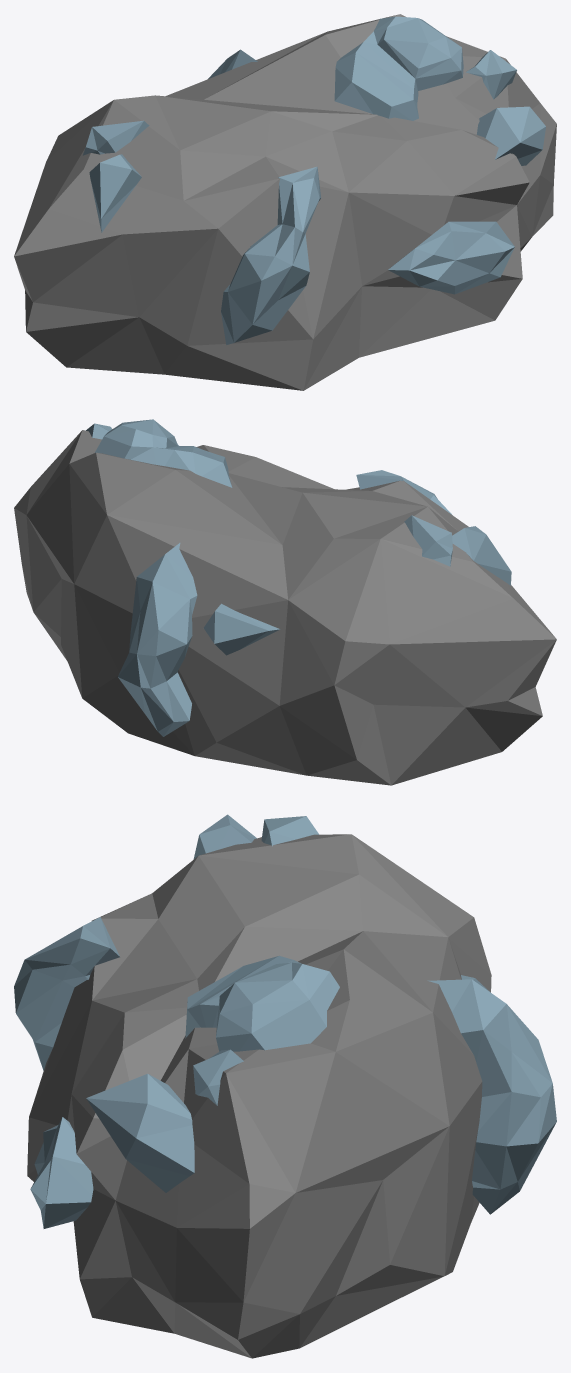
The model's file is _stone_3.fbx.
The picture shows the model from 3 angles, top to bottom: view 1: azimuth 30°, elevation 25°; view 2: azimuth 150°, elevation 25°; view 3: azimuth 270°, elevation 25°; orthographic projection. The views are drawn at different scales.
Parts seen in each view (by area): view 1: stone_3; view 2: stone_3; view 3: stone_3.
Boxes of the visible parts, x1,y1,x2,y2 form: stone_3: (14,14,556,390); stone_3: (14,419,556,785); stone_3: (14,814,556,1358).
Bounding box in the file's own units: 261 × 116 × 167.
